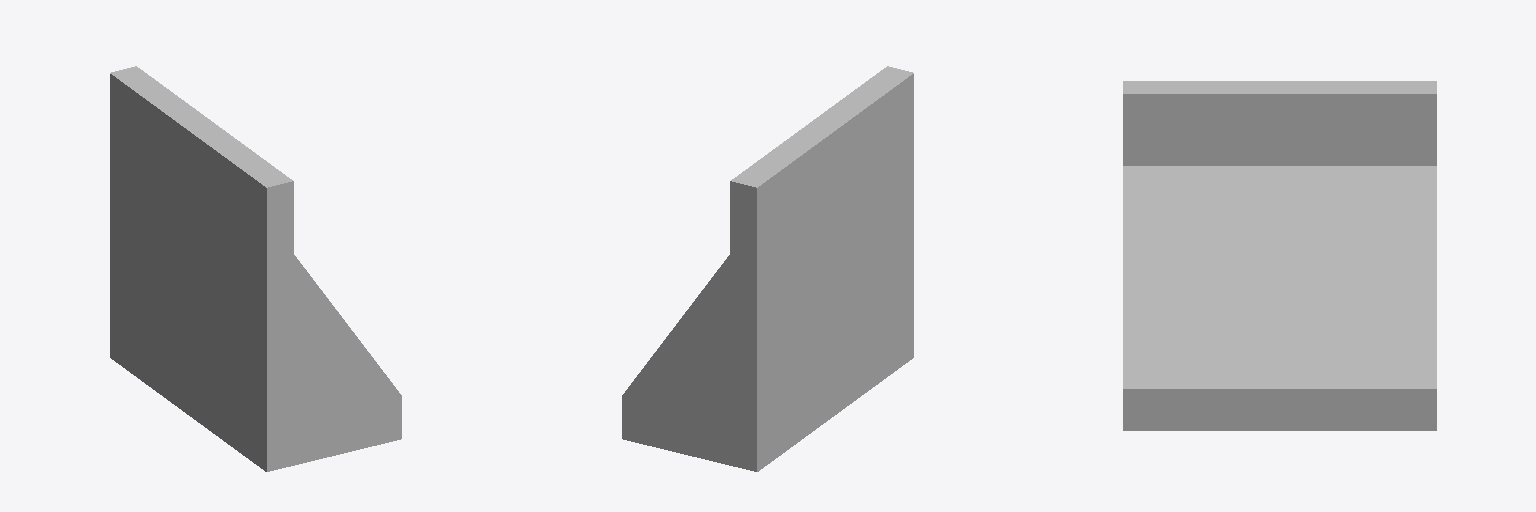
The model's file is ticket_machine.obj.
The picture shows the model from 3 angles: view 1: azimuth 30°, elevation 25°; view 2: azimuth 150°, elevation 25°; view 3: azimuth 270°, elevation 25°; orthographic projection.
Visible parts, largest first — view 1: Cube.003; view 2: Cube.003; view 3: Cube.003.
Boxes of the visible parts, box(x1,y1,x2,y2) form: Cube.003: box(110, 66, 401, 471); Cube.003: box(622, 66, 913, 471); Cube.003: box(1123, 81, 1436, 430).
Bounding box in the file's own units: 0.5 × 1 × 1.